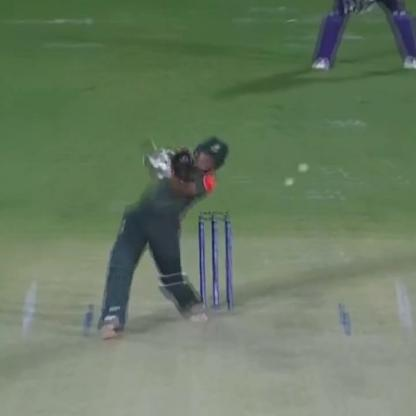ball: (282, 176, 300, 192), (292, 160, 310, 174)
bat: (133, 132, 180, 182)
pitch: (2, 264, 416, 416)
